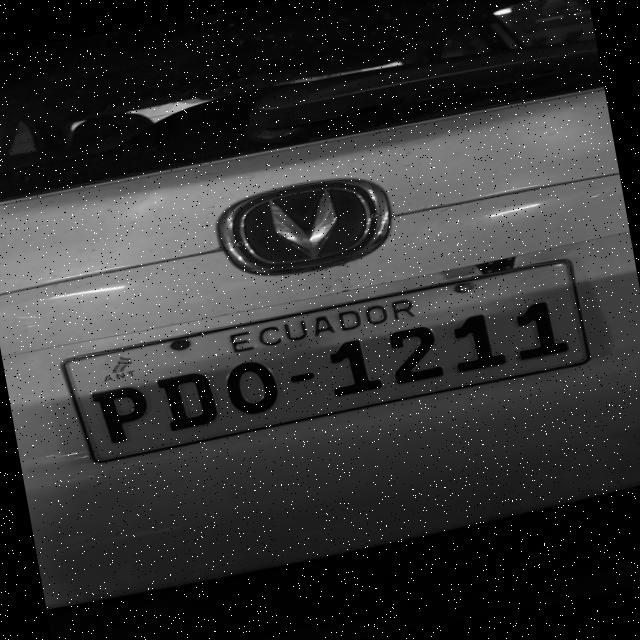Placa: (64, 261, 588, 461)
